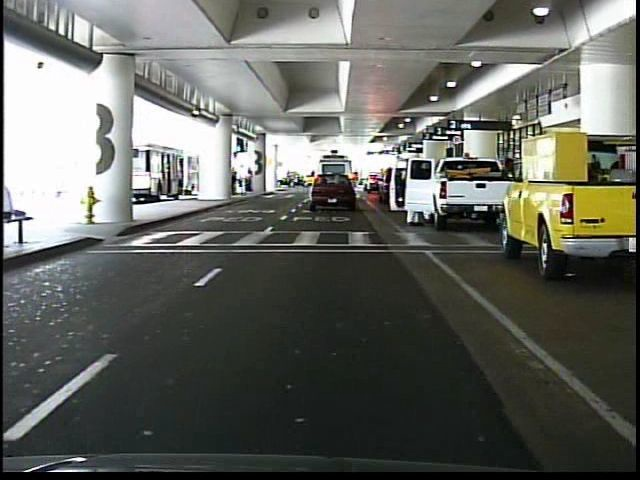person: (229, 163, 241, 198), (245, 166, 257, 194)
